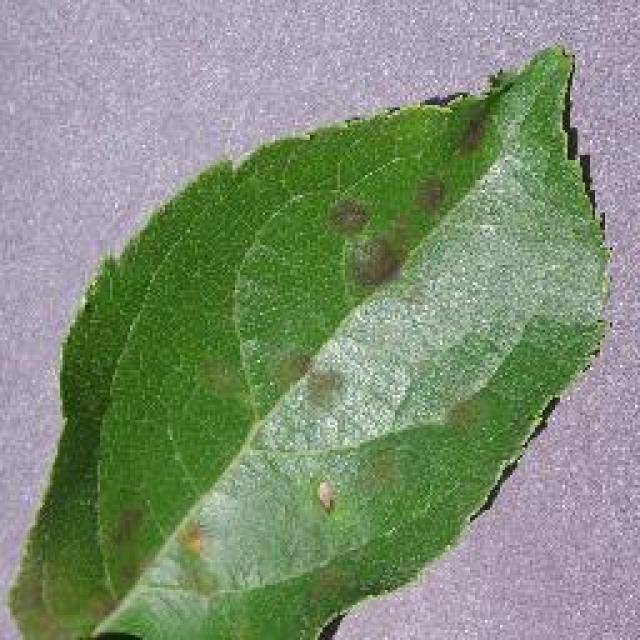apple scab disease: (3, 40, 615, 638)
